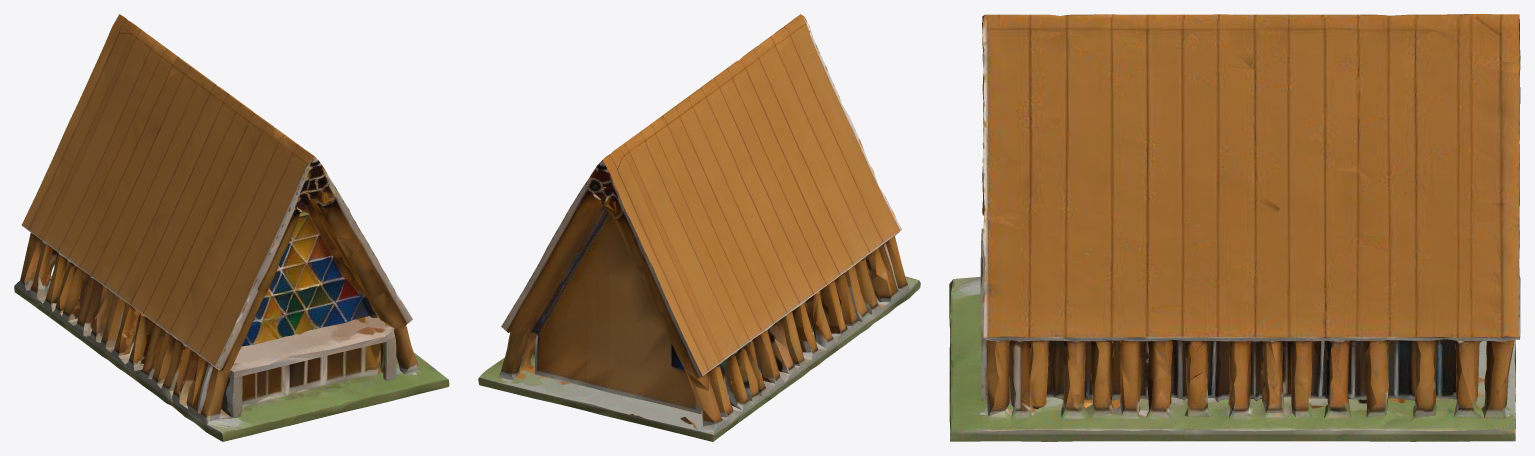
The model's file is cardboard-cathedral.glb.
3 renders of one model, left to right at view 1: azimuth 30°, elevation 25°; view 2: azimuth 150°, elevation 25°; view 3: azimuth 270°, elevation 25°, orthographic. The views are drawn at different scales.
Parts seen in each view (by area): view 1: logan-textured.obj; view 2: logan-textured.obj; view 3: logan-textured.obj.
Part boxes in pixels (x1=…): logan-textured.obj: x1=14, y1=14, x2=449, y2=441; logan-textured.obj: x1=478, y1=14, x2=920, y2=441; logan-textured.obj: x1=949, y1=14, x2=1520, y2=441.
Size of the model in its own units: 0.6408 by 0.6687 by 1.
1 material, 1 textured.
